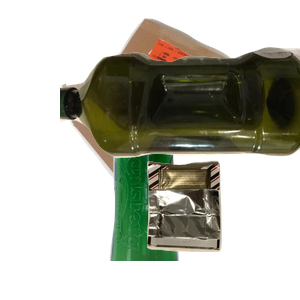cardboard: (67, 16, 295, 196)
glass: (107, 120, 278, 300)
plastic: (60, 44, 300, 195)
trash: (144, 158, 300, 300)
